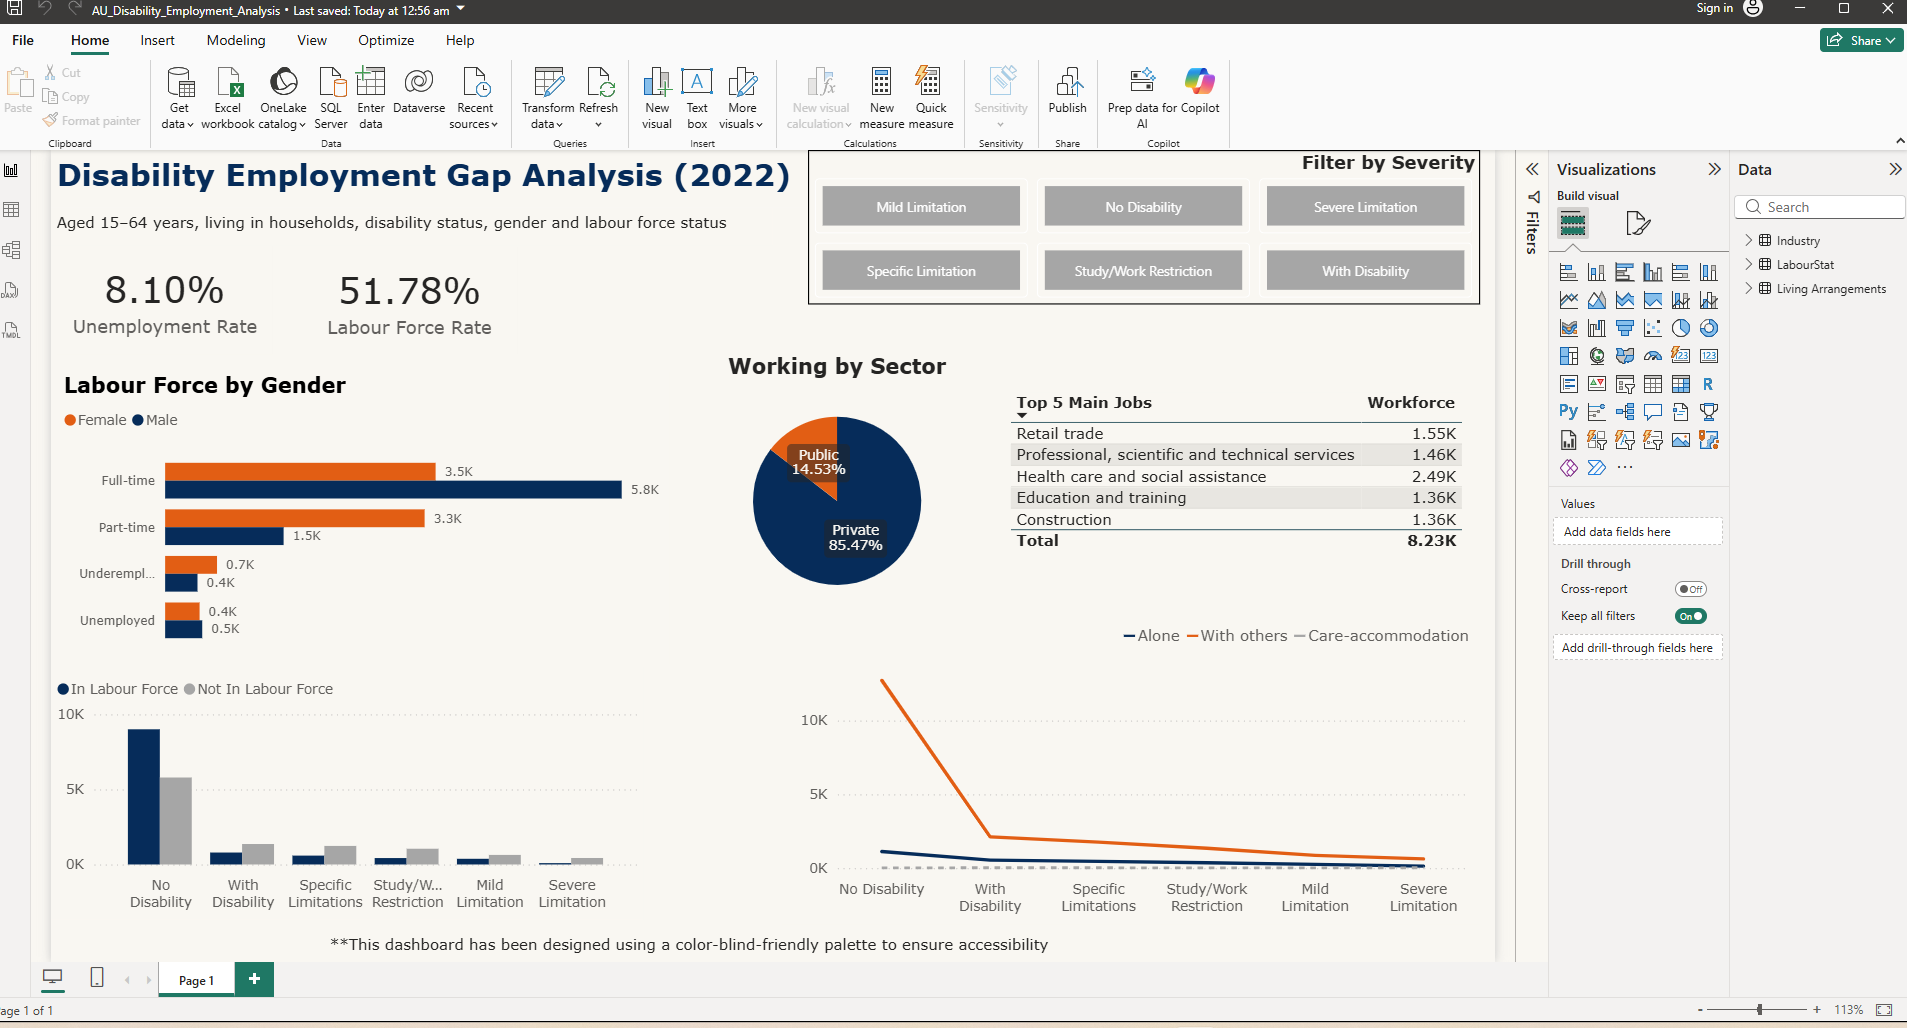

What the dashboard file says about the page in this screenshot:
{"tool":"powerbi","page":{"name":"Page 1","canvas":[1280,720],"ordinal":0},"visuals":[{"type":"clusteredBarChart","title":"Labour Force by Gender","fields":{"Category":["Employment.Work_Type"],"Series":["Employment.Gender"],"Y":["Sum(Employment.Headcount)"]},"box":[6.1,196.8,542.1,258.9],"z":0},{"type":"clusteredColumnChart","fields":{"Category":["Employment.Disability_Type"],"Y":["LabourStat.In Labour Force","LabourStat.Not In Labour Force"]},"box":[0,458.8,525.4,224.1],"z":1000},{"type":"actionButton","box":[0,0,100,40],"z":2000},{"type":"card","fields":{"Values":["LabourStat.Labour Unemployment Rate"]},"box":[5.6,84.9,191.4,95.7],"z":3000},{"type":"tableEx","fields":{"Values":["Industry.Industry","Sum(Industry.Headcount)"]},"box":[844.9,210.5,414.9,169.6],"z":4000},{"type":"advancedSlicerVisual","title":"Filter by Severity","fields":{"Values":["Industry.Disability_Type"]},"box":[671.4,0,595.7,137.1],"z":5000},{"type":"pieChart","title":"Working by Sector","fields":{"Category":["Industry.Industry"],"Y":["Sum(Industry.Headcount)"]},"box":[552.7,180.2,289.2,239.2],"z":6000},{"type":"lineChart","fields":{"Y":["Sum(Living Arrangements.Alone)","Sum(Living Arrangements.With others)","Sum(Living Arrangements.Care-accommodation)"],"Category":["LabourStat.Disability_Type"]},"box":[648.1,410.3,619.3,275.6],"z":7000},{"type":"textbox","box":[0,51.4,640,32.9],"z":8000},{"type":"textbox","box":[0,0,670.8,51.5],"z":9000},{"type":"card","fields":{"Values":["LabourStat.Labour Force Rate"]},"box":[222.6,86.3,190.8,95.4],"z":10000},{"type":"textbox","box":[242.3,692,772.2,25.7],"z":11000}]}

Visuals, with their boxes on the page's 1280x720 design canvas (x1, y1, x2, y2). These are canvas units, not pixel positions in the 1907x1028 screenshot, which may show the page scaled, cropped or inside an application window:
"Labour Force by Gender" clusteredBarChart: [6, 197, 548, 456]
clusteredColumnChart - Employment.Disability_Type x LabourStat.In Labour Force: [0, 459, 525, 683]
actionButton: [0, 0, 100, 40]
card - LabourStat.Labour Unemployment Rate: [6, 85, 197, 181]
tableEx - Industry.Industry x Sum(Industry.Headcount): [845, 210, 1260, 380]
"Filter by Severity" advancedSlicerVisual: [671, 0, 1267, 137]
"Working by Sector" pieChart: [553, 180, 842, 419]
lineChart - Sum(Living Arrangements.Alone) x Sum(Living Arrangements.With others): [648, 410, 1267, 686]
textbox: [0, 51, 640, 84]
textbox: [0, 0, 671, 52]
card - LabourStat.Labour Force Rate: [223, 86, 413, 182]
textbox: [242, 692, 1014, 718]
